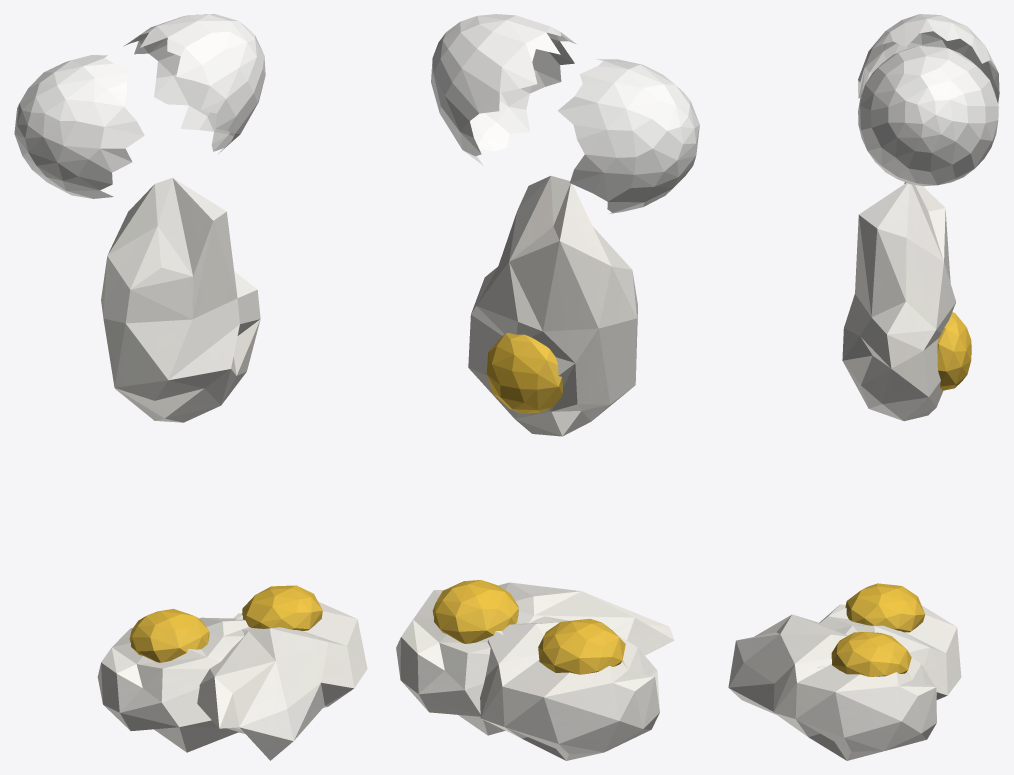
The model's file is CrackingEggs.obj.
3 views of the same model, side by side, from view 1: azimuth 30°, elevation 25°; view 2: azimuth 150°, elevation 25°; view 3: azimuth 270°, elevation 25° (orthographic). The views are drawn at different scales.
Parts seen in each view (by area): view 1: Sphere.004, Sphere.002, Sphere.005, Sphere.006; view 2: Sphere.002, Sphere.004, Sphere.006, Sphere.005, Sphere.003; view 3: Sphere.005, Sphere.004, Sphere.002, Sphere.006, Sphere.003.
Boxes of the visible parts, bbox=[...] form: Sphere.004: bbox=[101, 177, 260, 422]; Sphere.002: bbox=[14, 14, 265, 198]; Sphere.005: bbox=[197, 585, 367, 760]; Sphere.006: bbox=[97, 608, 318, 752]; Sphere.002: bbox=[431, 14, 699, 213]; Sphere.004: bbox=[468, 176, 637, 436]; Sphere.006: bbox=[480, 616, 659, 760]; Sphere.005: bbox=[396, 580, 674, 735]; Sphere.003: bbox=[486, 333, 562, 413]; Sphere.005: bbox=[728, 614, 936, 760]; Sphere.004: bbox=[842, 182, 955, 421]; Sphere.002: bbox=[858, 14, 999, 186]; Sphere.006: bbox=[818, 583, 961, 699]; Sphere.003: bbox=[937, 312, 971, 390].
Bounding box in the file's own units: 0.126 × 0.2803 × 0.1021.
